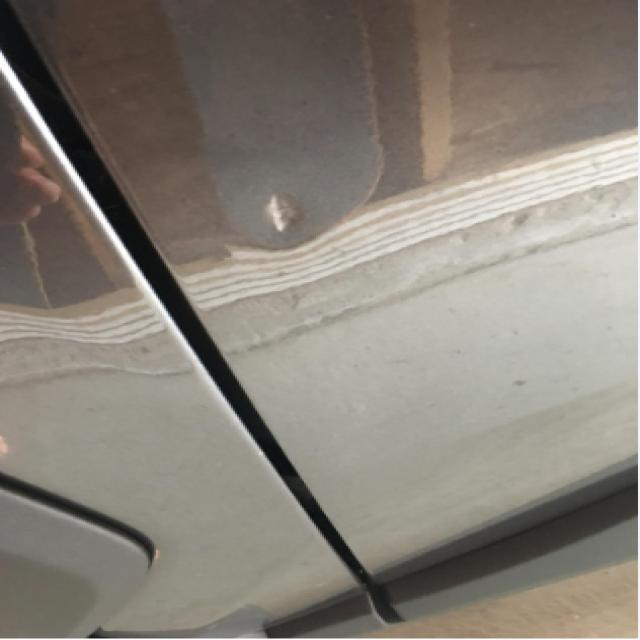dents: (224, 174, 364, 255)
